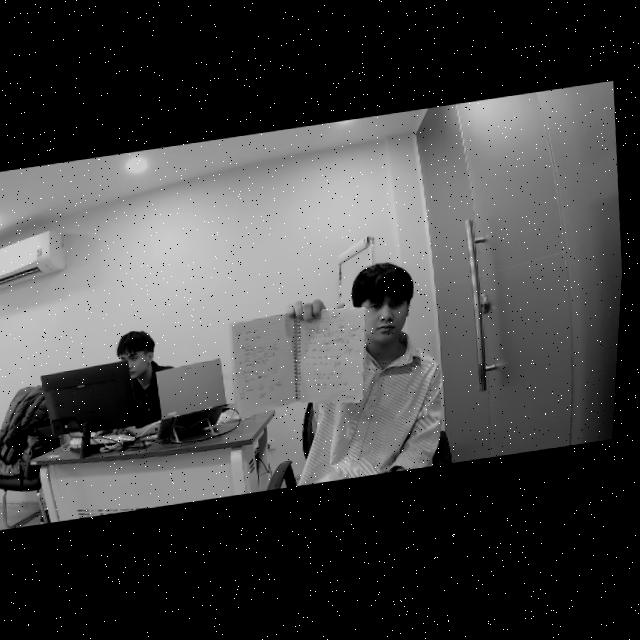document: (230, 308, 366, 418)
face: (355, 262, 415, 344), (120, 328, 158, 379)
